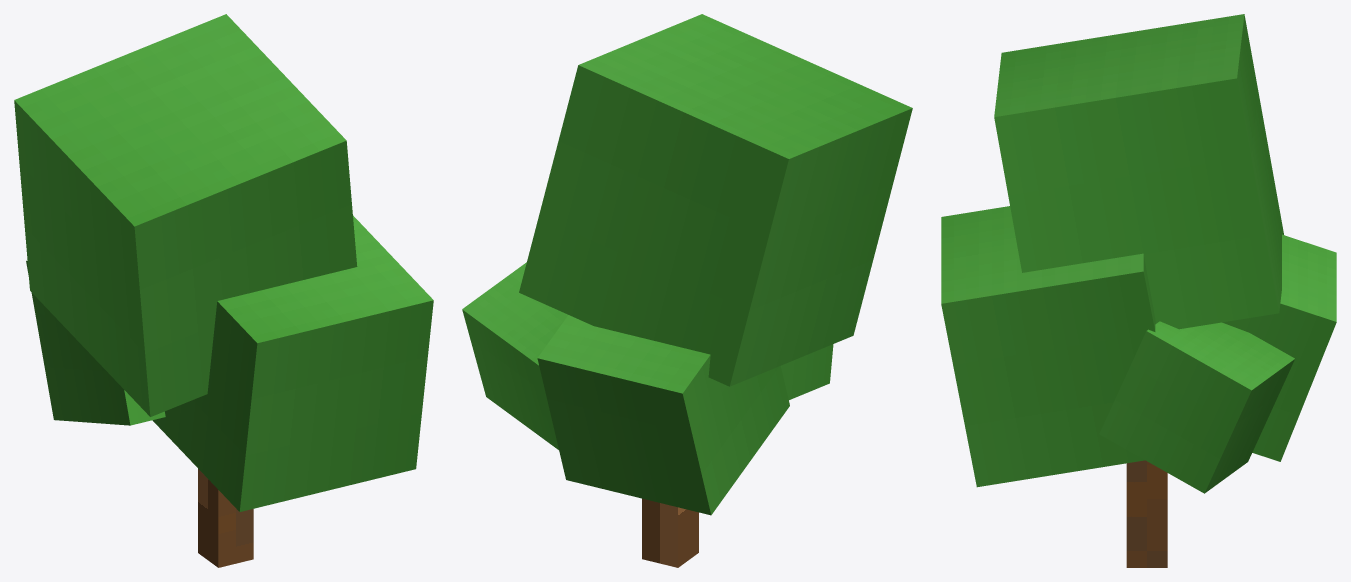
File: tree.gltf
3 renders of one model, left to right at view 1: azimuth 30°, elevation 25°; view 2: azimuth 150°, elevation 25°; view 3: azimuth 270°, elevation 25°, orthographic. The views are drawn at different scales.
Parts seen in each view (by area): view 1: leaves6, leaves5, leaves4, trunk; view 2: leaves6, leaves4, leaves5 (×2), trunk; view 3: leaves6, leaves5 (×2), leaves4, trunk.
Boxes of the visible parts, x1,y1,x2,y2 form: leaves6: (14, 14, 357, 416); leaves5: (152, 215, 433, 511); leaves4: (26, 260, 165, 425); trunk: (198, 469, 253, 567); leaves6: (519, 14, 912, 386); leaves4: (537, 315, 789, 515); leaves5 (×2): (462, 262, 833, 449); trunk: (642, 498, 698, 567); leaves6: (994, 14, 1283, 329); leaves5 (×2): (941, 206, 1294, 493); leaves4: (1222, 234, 1336, 461); trunk: (1126, 460, 1167, 567).
Bounding box in the file's own units: 1.11 × 1.69 × 1.2.
Materials: 2 (2 with a texture image).
